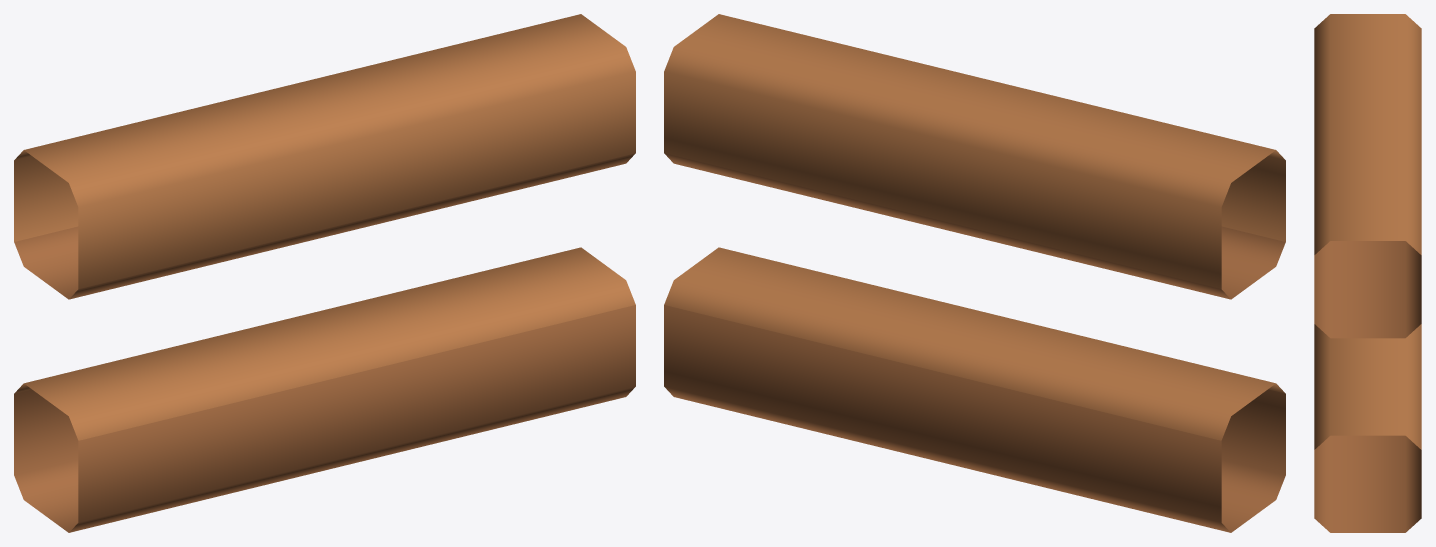
File: itch_tiny_homely_house_fence_rails.glb
3 renders of one model, left to right at view 1: azimuth 30°, elevation 25°; view 2: azimuth 150°, elevation 25°; view 3: azimuth 270°, elevation 25°, orthographic. The views are drawn at different scales.
Visible parts, largest first — view 1: fence_rails; view 2: fence_rails; view 3: fence_rails.
Boxes of the visible parts, box(x1,y1,x2,y2) form: fence_rails: box(14, 14, 635, 532); fence_rails: box(664, 14, 1285, 532); fence_rails: box(1314, 14, 1421, 532).
Bounding box in the file's own units: 1.18 × 0.708 × 0.236.
